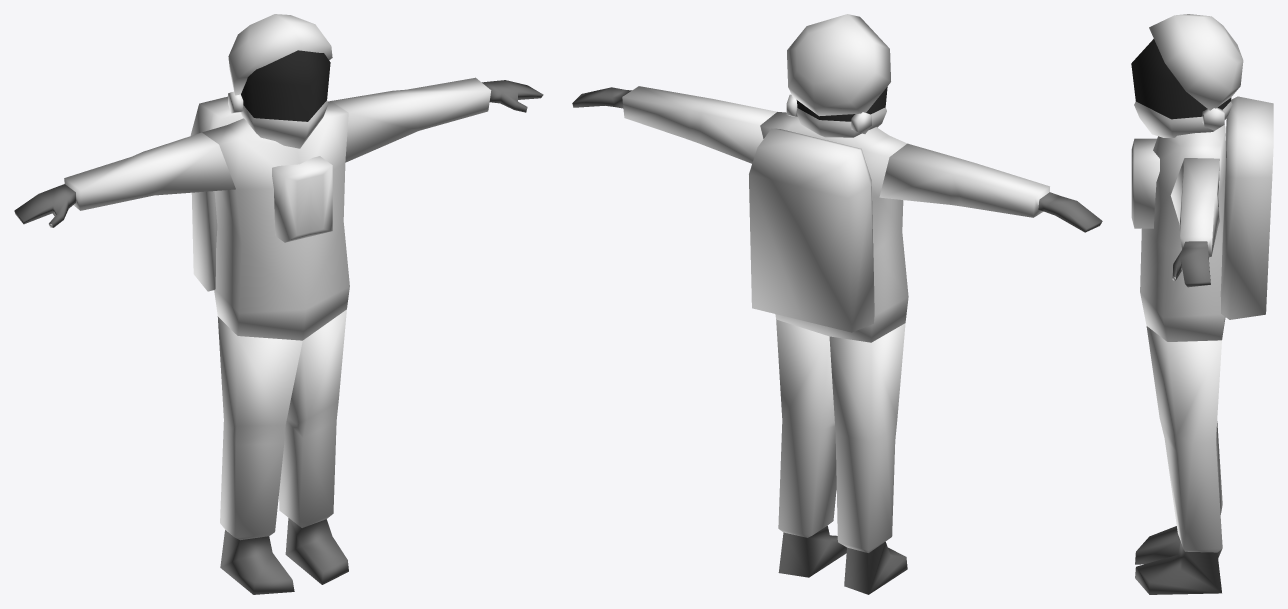
The model's file is Astronaut_Parts.fbx.
The picture shows the model from 3 angles, left to right: view 1: azimuth 30°, elevation 25°; view 2: azimuth 150°, elevation 25°; view 3: azimuth 270°, elevation 25°; orthographic projection.
Visible parts, largest first — view 1: man-astronaut_Rig.Parts, man-astronaut_Rig.Parts.004, man-astronaut_Rig.Parts.003, man-astronaut_Rig.Parts.005, man-astronaut_Rig.Parts.002, man-astronaut_Rig.Parts.001; view 2: man-astronaut_Rig.Parts, man-astronaut_Rig.Parts.004, man-astronaut_Rig.Parts.003, man-astronaut_Rig.Parts.005, man-astronaut_Rig.Parts.002, man-astronaut_Rig.Parts.001; view 3: man-astronaut_Rig.Parts, man-astronaut_Rig.Parts.003, man-astronaut_Rig.Parts.005, man-astronaut_Rig.Parts.001, man-astronaut_Rig.Parts.004.
Part boxes in pixels (box(x1,y1,x2,y2)): man-astronaut_Rig.Parts: box(190, 96, 349, 340); man-astronaut_Rig.Parts.004: box(217, 316, 302, 594); man-astronaut_Rig.Parts.003: box(279, 309, 348, 584); man-astronaut_Rig.Parts.005: box(228, 14, 332, 148); man-astronaut_Rig.Parts.002: box(14, 132, 235, 227); man-astronaut_Rig.Parts.001: box(331, 77, 543, 162); man-astronaut_Rig.Parts: box(749, 112, 908, 342); man-astronaut_Rig.Parts.004: box(829, 323, 907, 594); man-astronaut_Rig.Parts.003: box(776, 319, 846, 577); man-astronaut_Rig.Parts.005: box(786, 14, 890, 137); man-astronaut_Rig.Parts.002: box(879, 143, 1102, 232); man-astronaut_Rig.Parts.001: box(572, 86, 776, 163); man-astronaut_Rig.Parts: box(1131, 96, 1273, 341); man-astronaut_Rig.Parts.003: box(1135, 326, 1222, 594); man-astronaut_Rig.Parts.005: box(1131, 14, 1243, 137); man-astronaut_Rig.Parts.001: box(1170, 158, 1219, 287); man-astronaut_Rig.Parts.004: box(1135, 421, 1222, 564).
Size of the model in its own units: 183 by 186 by 43.06.
Materials: 1 (1 with a texture image).
